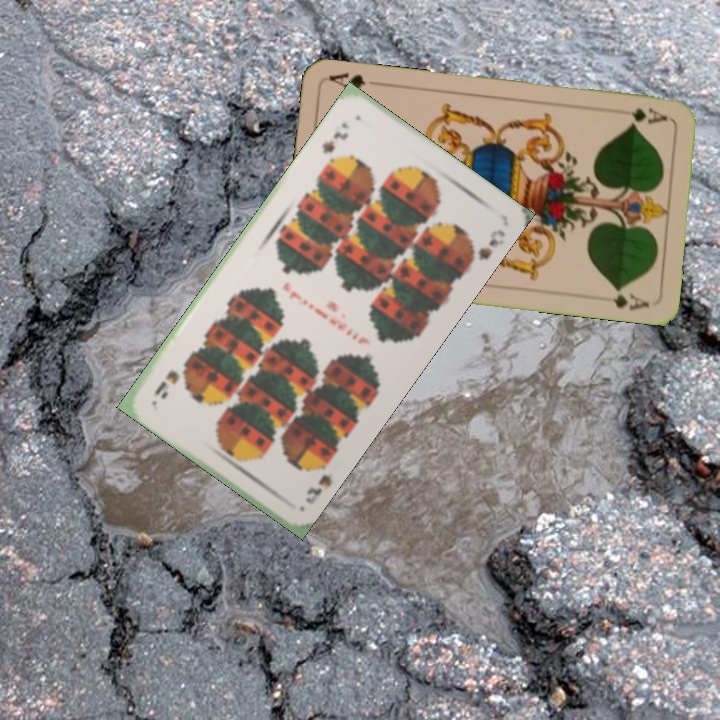GA: (627, 103, 674, 127)
S9: (301, 460, 335, 507), (317, 118, 353, 157)
